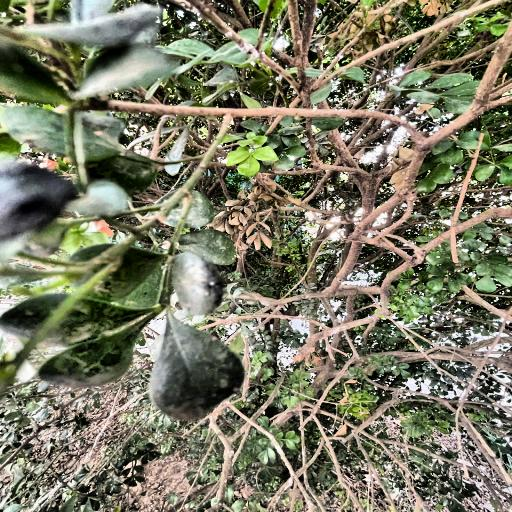la dom: (41, 242, 253, 408)
la xanh: (206, 118, 292, 185)
